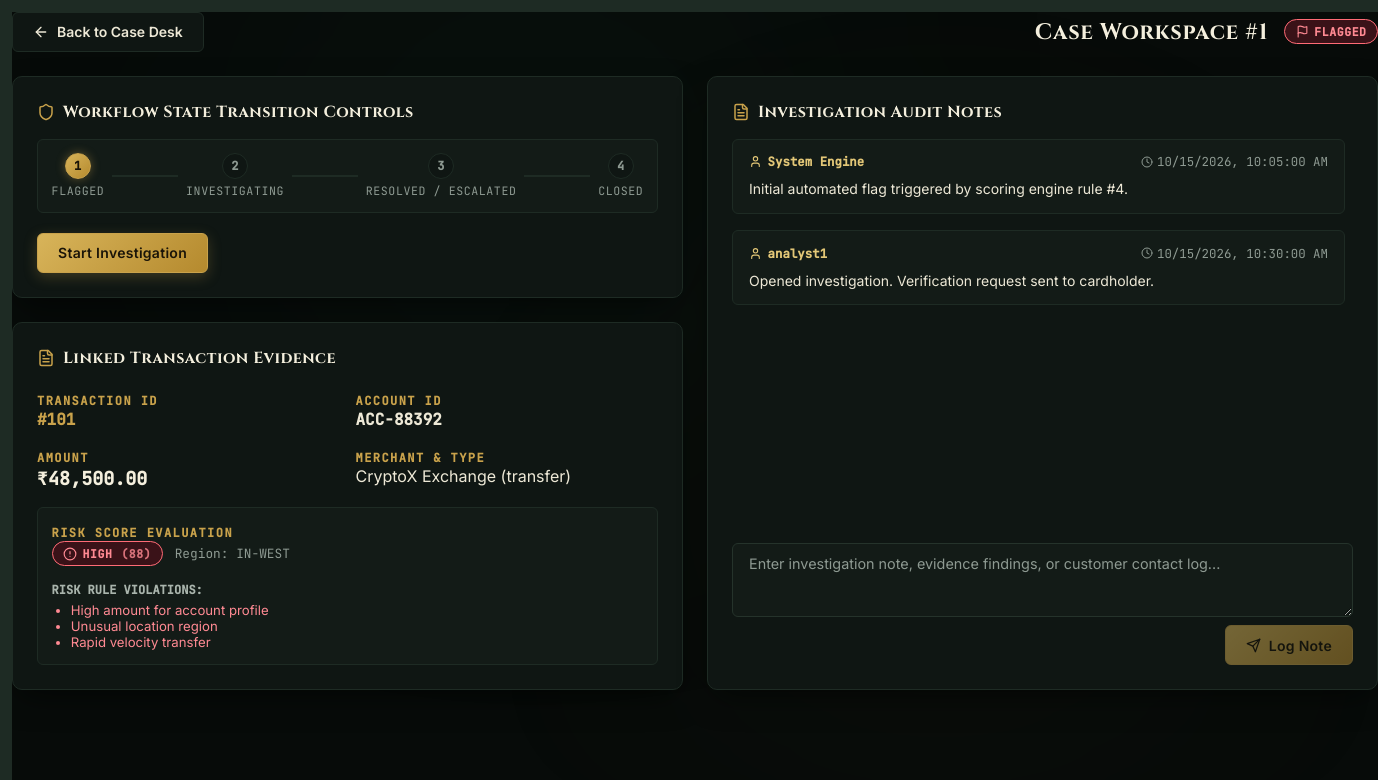
CaseDetailPage › shows error message when adding a note fails
expect the heading "Case Workspace #1" is shown: met, box [1035,17,1268,47]
Replace the text in the text box with placeholder "Enter investigation note" with "Synthetic audit log note test". click: (1042, 580)
box: [732,543,1353,617]
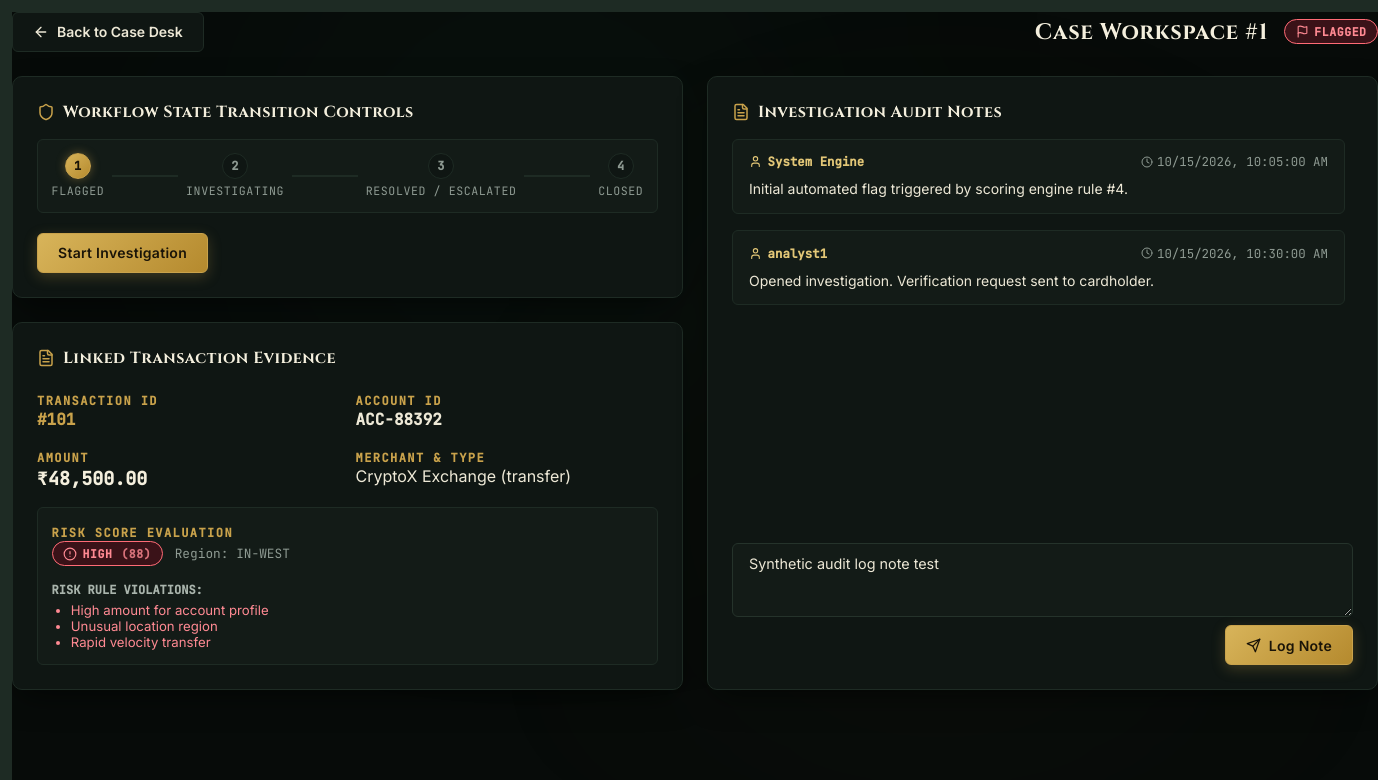
Click the button "Log Note". click: (1289, 645)
box: [1225,625,1353,665]
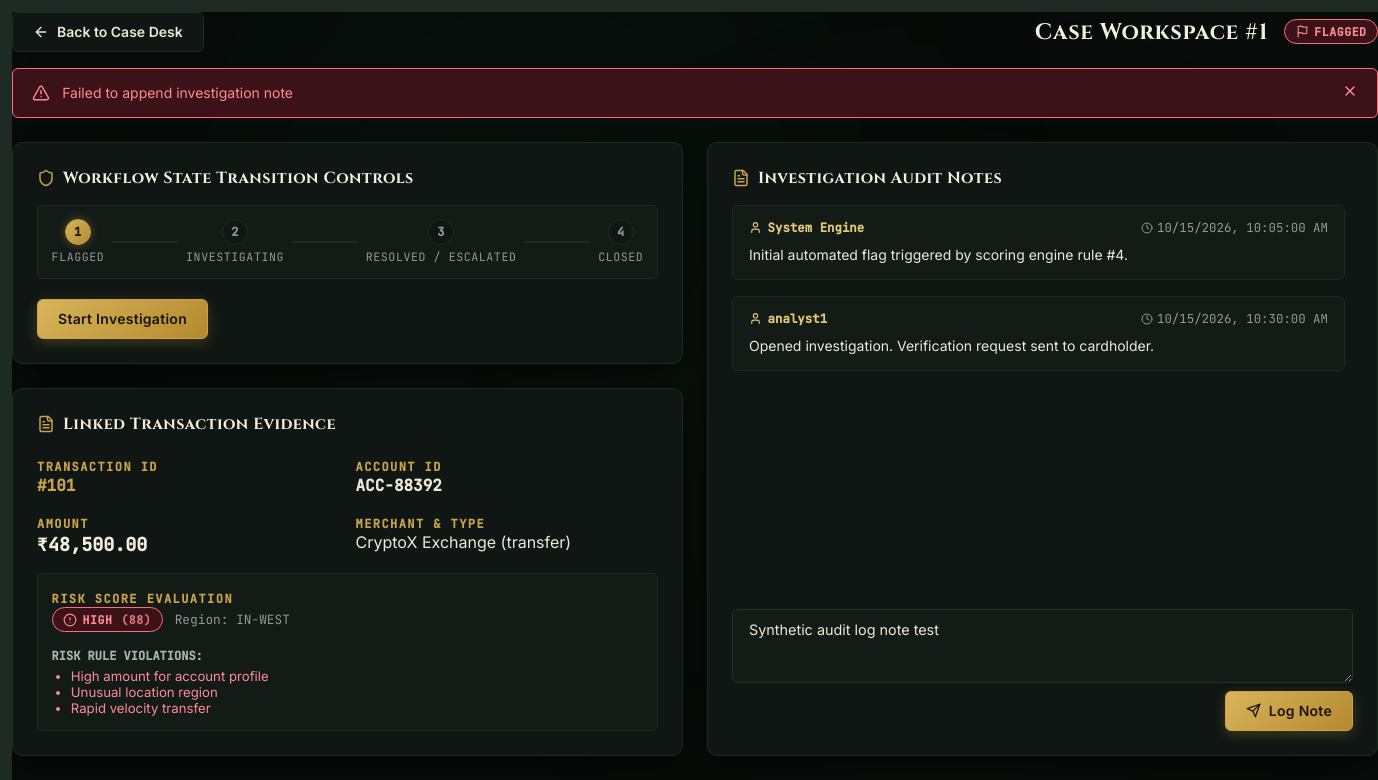
expect the text "Failed to append investigation note" is shown: met, box [62,84,293,101]
